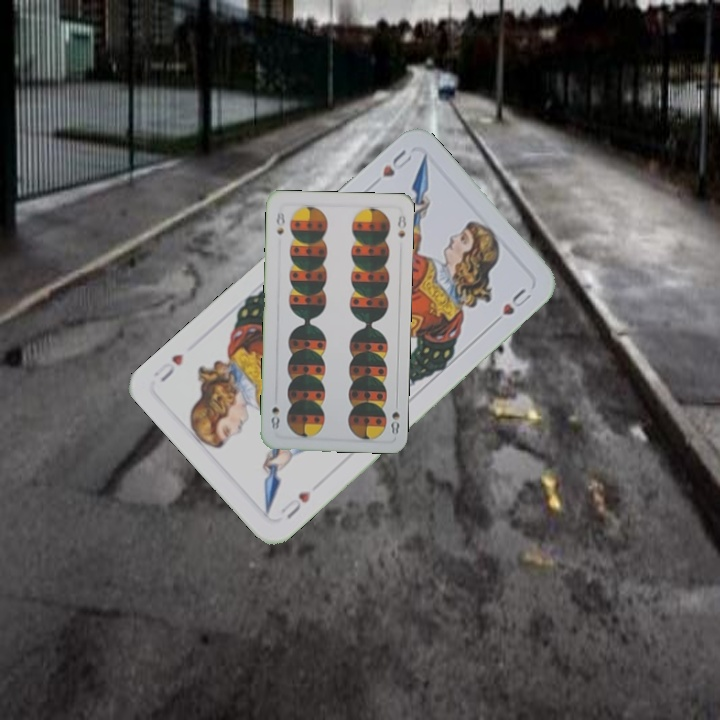HU: (276, 486, 313, 522), (378, 145, 415, 180)
S8: (387, 397, 402, 437), (272, 207, 287, 237)
